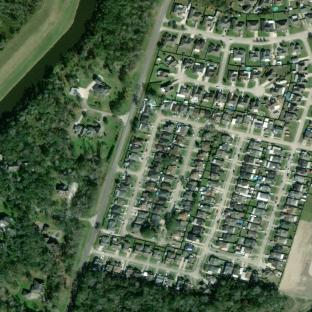Floresta: (0, 0, 156, 312), (68, 263, 290, 312), (0, 0, 43, 52)
